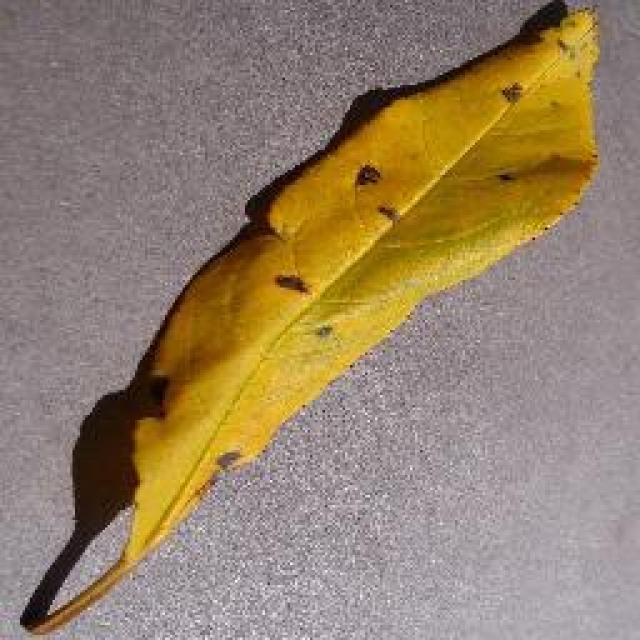Peach_Bacterial_Spot: (255, 67, 498, 333)
